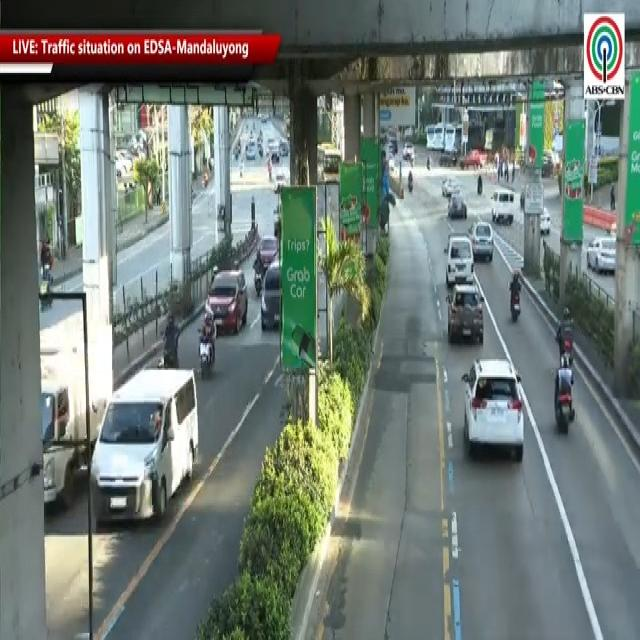car: (456, 346, 530, 466), (204, 266, 251, 331), (446, 282, 486, 351), (442, 235, 479, 293), (469, 210, 495, 260)
motorbike: (552, 347, 574, 442), (197, 312, 217, 376), (35, 244, 54, 309), (160, 312, 180, 368), (555, 308, 575, 363), (509, 267, 525, 324), (476, 173, 486, 199), (406, 169, 417, 191)
truck: (37, 310, 112, 513)
